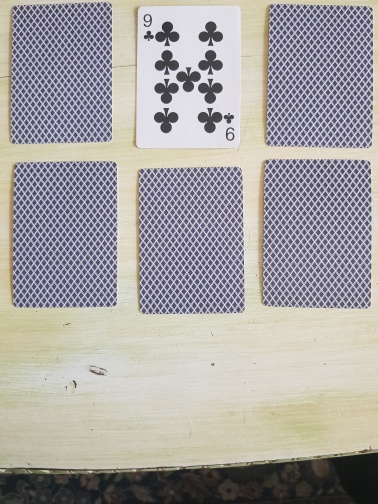nine: (133, 4, 243, 150)
